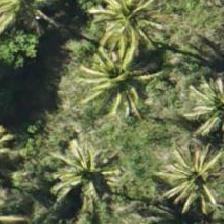coconut_tree: (63, 31, 153, 121), (25, 133, 115, 223), (141, 131, 223, 221), (86, 0, 176, 50), (176, 56, 223, 146)
